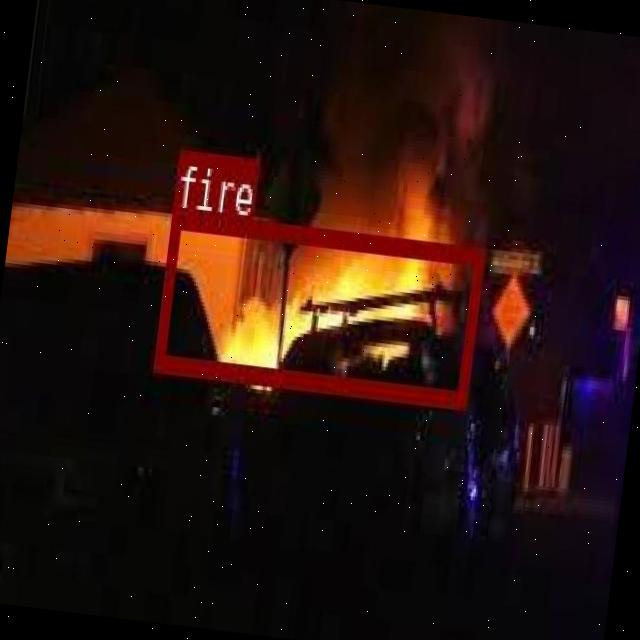fire: (153, 209, 483, 405)
